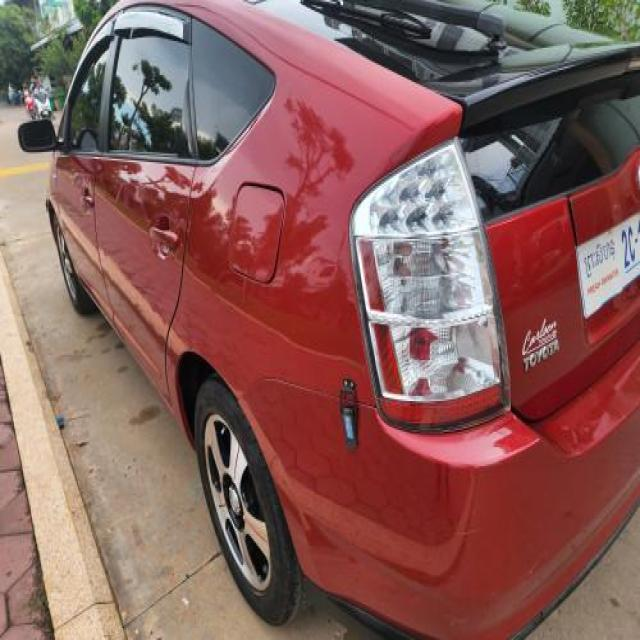Preah_Sihanouk: (584, 241, 616, 278)
